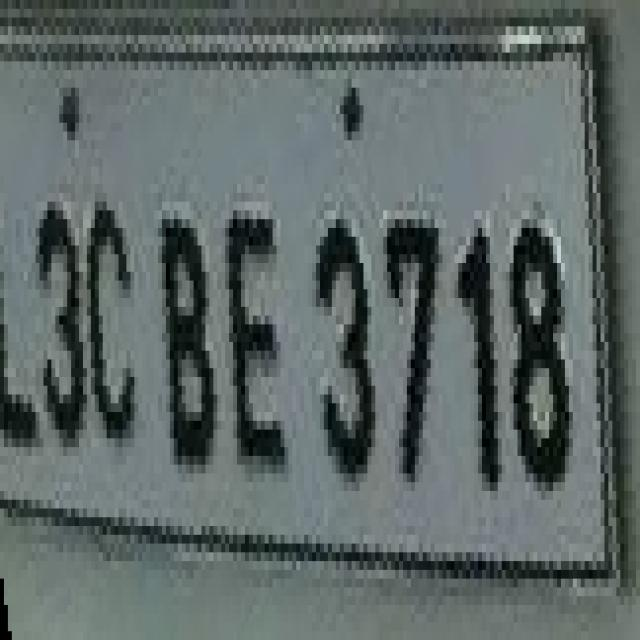license_plate: (0, 44, 612, 605)
